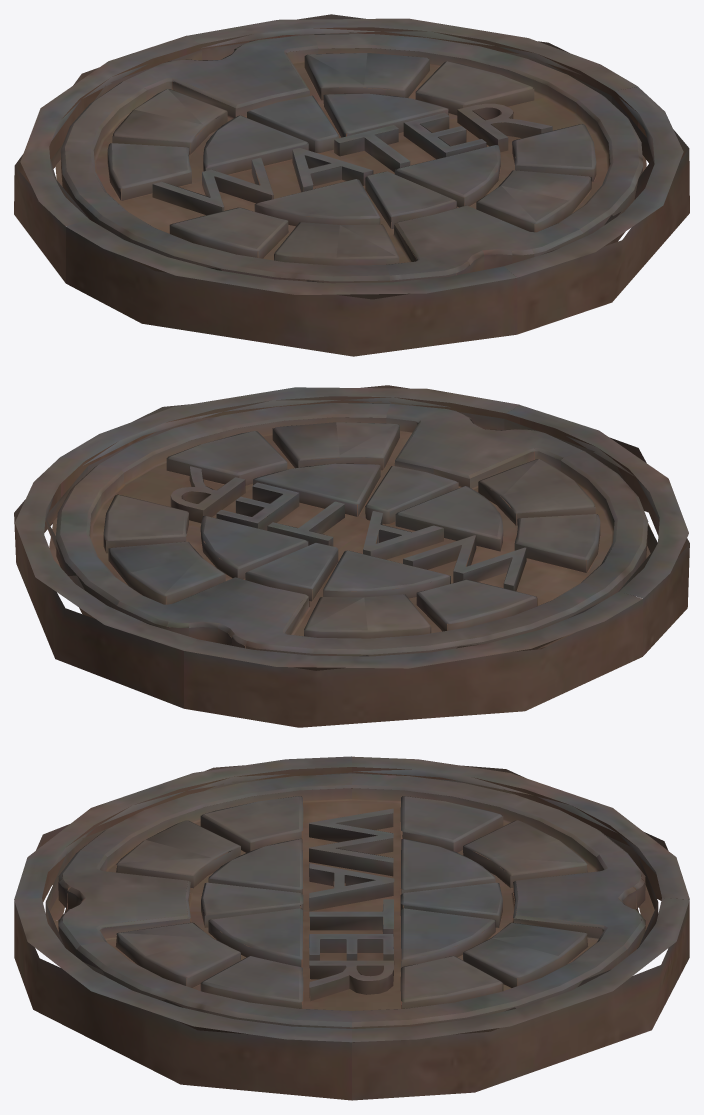
The model's file is water_manhole_cover.glb.
3 views of the same model, one above another, from view 1: azimuth 30°, elevation 25°; view 2: azimuth 150°, elevation 25°; view 3: azimuth 270°, elevation 25° (orthographic). The views are drawn at different scales.
Visible parts, largest first — view 1: water_manhole_cover; view 2: water_manhole_cover; view 3: water_manhole_cover.
Part boxes in pixels (box(x1,y1,x2,y2)): water_manhole_cover: box(14, 14, 689, 356); water_manhole_cover: box(14, 385, 689, 727); water_manhole_cover: box(14, 756, 689, 1100).
Bounding box in the file's own units: 0.6916 × 0.0681 × 0.6915.
Materials: 1 (1 with a texture image).
